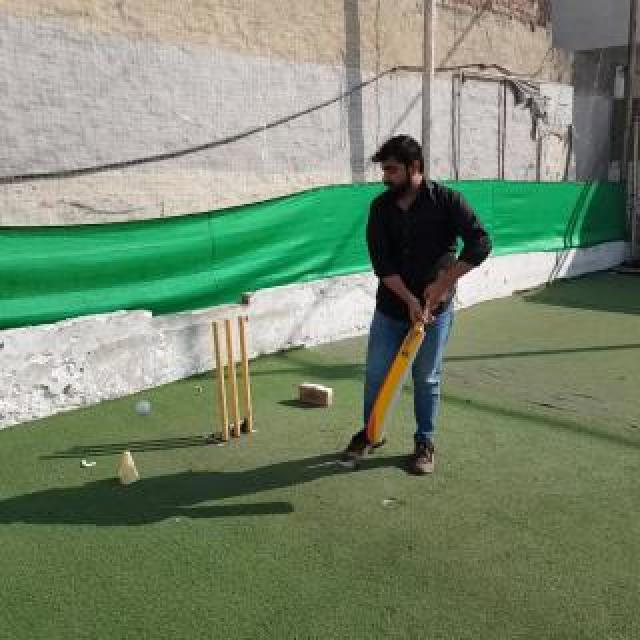ball: (135, 399, 151, 415)
bat: (368, 299, 432, 445)
